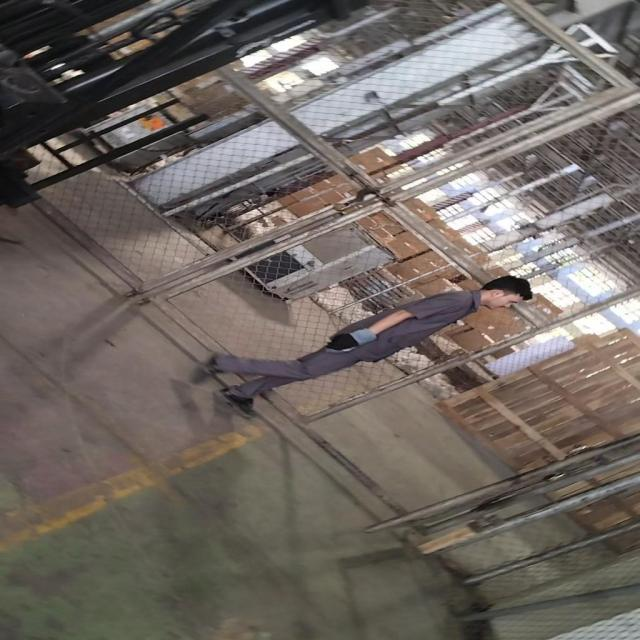Gloves-Detection: (330, 325, 377, 354)
